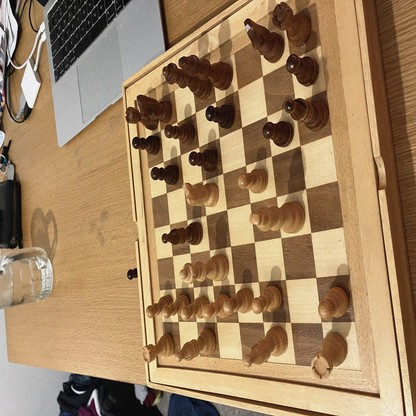bishop_black: (285, 98, 328, 130), (162, 222, 203, 245)
bishop_white: (243, 327, 287, 366), (176, 329, 216, 362)
king_black: (178, 55, 233, 90)
king_white: (249, 202, 306, 234)
knight_black: (244, 18, 286, 62), (136, 95, 173, 122)
knight_white: (183, 183, 219, 208)
pawn_black: (287, 55, 318, 85), (263, 122, 294, 146), (165, 123, 195, 146), (206, 106, 235, 129), (188, 150, 218, 172), (151, 164, 179, 185), (133, 135, 159, 155)
pawn_white: (319, 286, 349, 319), (253, 284, 282, 314), (223, 288, 253, 314), (237, 169, 268, 194), (181, 296, 209, 321), (162, 295, 190, 319), (203, 294, 231, 317), (146, 295, 173, 318)
queen_black: (163, 64, 211, 98)
queen_white: (180, 252, 229, 285)
rock_black: (272, 2, 312, 45), (126, 107, 158, 130)
rock_white: (311, 332, 347, 381), (142, 333, 175, 364)
